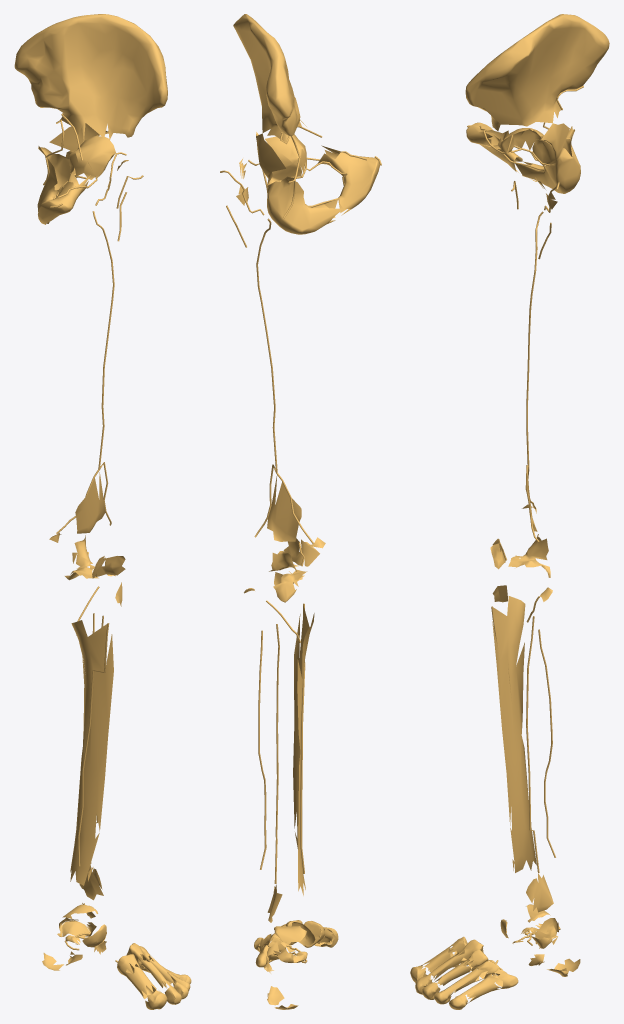
The model's file is lower-bone-overlays.glb.
The picture shows the model from 3 angles, left to right: view 1: azimuth 30°, elevation 25°; view 2: azimuth 150°, elevation 25°; view 3: azimuth 270°, elevation 25°; orthographic projection. The views are drawn at different scales.
Parts seen in each view (by area): view 1: gap-ilium, gap-medial-surface-of-tibia, gap-acetabulum, gap-popliteal-surface, gap-ischium, gap-pubis, gap-talar-articular-facets, gap-anterior-border-of-tibia, gap-linea-aspera, gap-shaft-of-metatarsal-1, gap-fibular-notch; view 2: gap-ilium, gap-medial-surface-of-tibia, gap-ischium, gap-acetabulum, gap-pubis, gap-popliteal-surface, gap-talar-articular-facets, gap-interosseous-border-of-tibia, gap-interosseous-border-of-fibula, gap-ischial-ramus, gap-anterior-border-of-tibia, gap-linea-aspera (+1 smaller); view 3: gap-ilium, gap-medial-surface-of-tibia, gap-acetabulum, gap-ischium, gap-pubis, gap-fibular-notch, gap-interosseous-border-of-tibia, gap-interosseous-border-of-fibula, gap-shaft-of-metatarsal-5.
Part boxes in pixels (x1,y1,x2,y2): gap-ilium: [14, 14, 167, 141]; gap-medial-surface-of-tibia: [70, 620, 113, 885]; gap-acetabulum: [49, 123, 115, 179]; gap-popliteal-surface: [75, 472, 105, 533]; gap-ischium: [37, 154, 70, 207]; gap-pubis: [38, 182, 75, 224]; gap-talar-articular-facets: [57, 904, 106, 947]; gap-anterior-border-of-tibia: [78, 623, 109, 866]; gap-linea-aspera: [98, 261, 114, 469]; gap-shaft-of-metatarsal-1: [126, 966, 156, 998]; gap-fibular-notch: [79, 864, 103, 900]; gap-ilium: [233, 14, 306, 142]; gap-medial-surface-of-tibia: [293, 605, 314, 895]; gap-ischium: [267, 173, 334, 234]; gap-acetabulum: [256, 132, 306, 184]; gap-pubis: [335, 156, 379, 215]; gap-popliteal-surface: [267, 475, 301, 541]; gap-talar-articular-facets: [268, 922, 315, 962]; gap-interosseous-border-of-tibia: [274, 624, 279, 883]; gap-interosseous-border-of-fibula: [258, 630, 266, 869]; gap-ischial-ramus: [309, 199, 342, 228]; gap-anterior-border-of-tibia: [299, 603, 305, 873]; gap-linea-aspera: [256, 265, 277, 473]; gap-ilium: [465, 14, 609, 131]; gap-medial-surface-of-tibia: [492, 596, 536, 872]; gap-acetabulum: [498, 123, 571, 162]; gap-ischium: [542, 140, 580, 193]; gap-pubis: [466, 122, 522, 172]; gap-fibular-notch: [526, 873, 553, 912]; gap-interosseous-border-of-tibia: [526, 616, 539, 872]; gap-interosseous-border-of-fibula: [538, 629, 555, 857]; gap-shaft-of-metatarsal-5: [462, 973, 501, 1002].
Bounding box in the file's own units: 0.244 × 1.67 × 0.3103.
